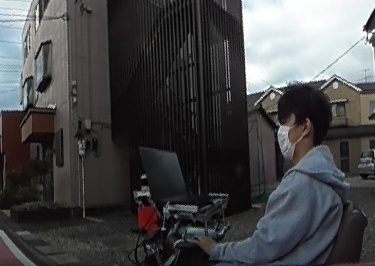person: (221, 81, 347, 266)
